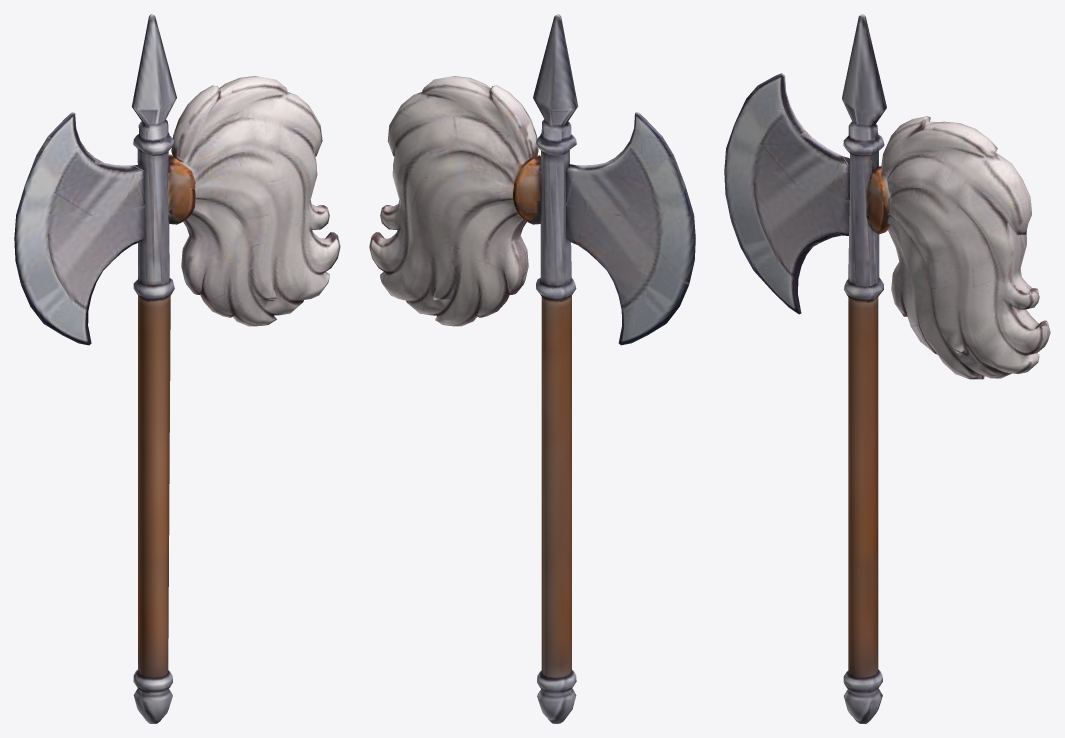
Rendered from item-sudsHalberd.glb.
3 renders of one model, left to right at view 1: azimuth 30°, elevation 25°; view 2: azimuth 150°, elevation 25°; view 3: azimuth 330°, elevation 25°, orthographic.
Bounding box in the file's own units: 0.4556 × 0.9512 × 0.1011.
Materials: 1 (1 with a texture image).
